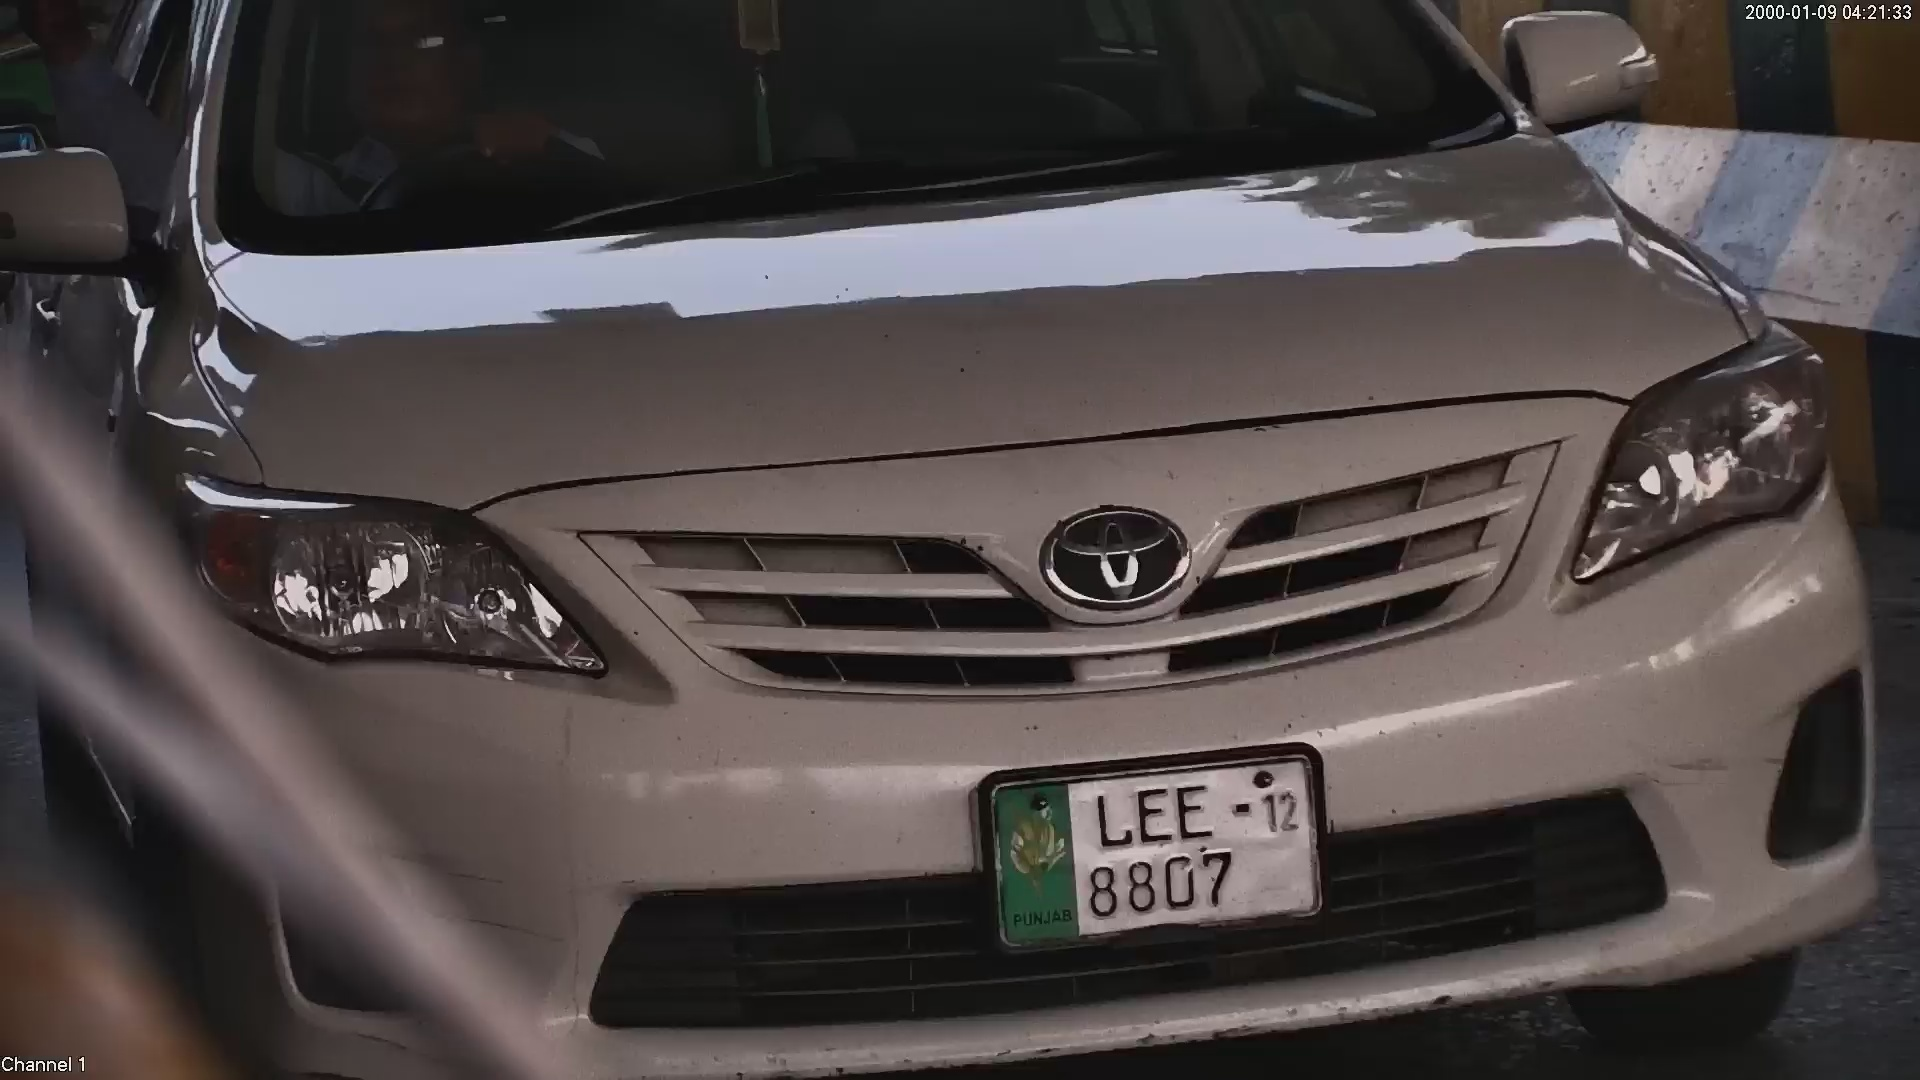Number_Plate: (965, 744, 1347, 959)
Undefined: (197, 494, 600, 690), (1584, 307, 1837, 562), (1008, 475, 1210, 612)
